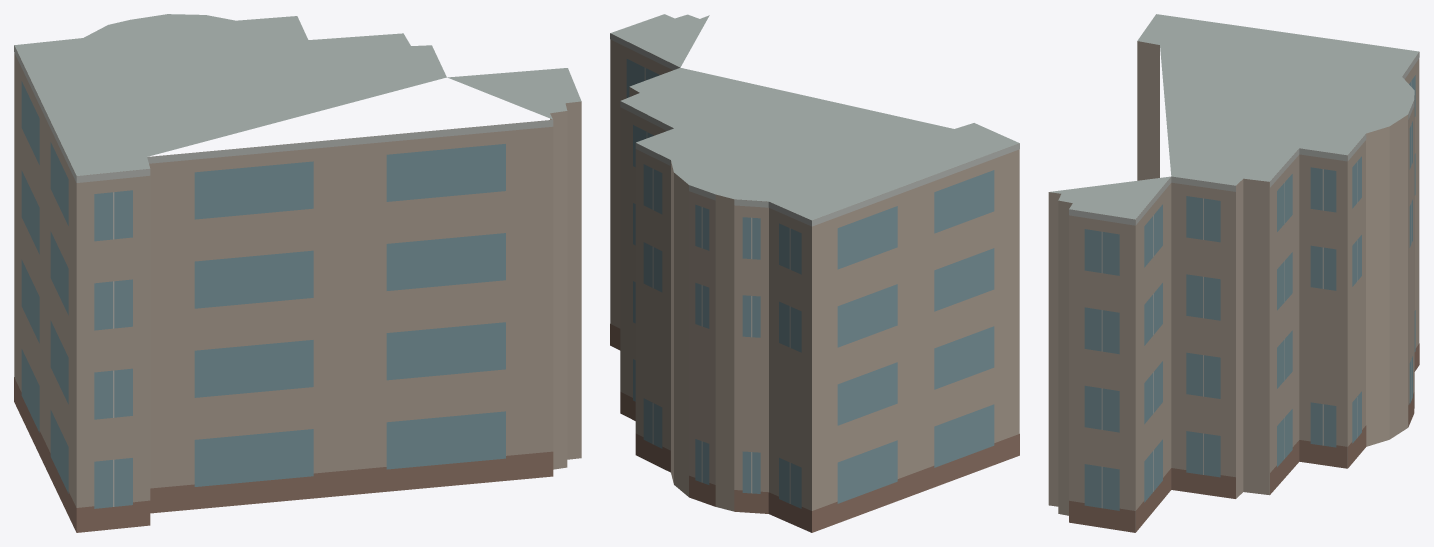
Rendered from survey-upis-32819916.glb.
The picture shows the model from 3 angles, left to right: view 1: azimuth 30°, elevation 25°; view 2: azimuth 150°, elevation 25°; view 3: azimuth 270°, elevation 25°; orthographic projection. The views are drawn at different scales.
Parts seen in each view (by area): view 1: survey-upis-32819916.tmp; view 2: survey-upis-32819916.tmp; view 3: survey-upis-32819916.tmp.
Part boxes in pixels (left/top/right/bottom): survey-upis-32819916.tmp: left=14, top=14, right=581, bottom=532; survey-upis-32819916.tmp: left=610, top=14, right=1019, bottom=532; survey-upis-32819916.tmp: left=1048, top=14, right=1419, bottom=532.
Size of the model in its own units: 17.45 by 12.4 by 13.31.
